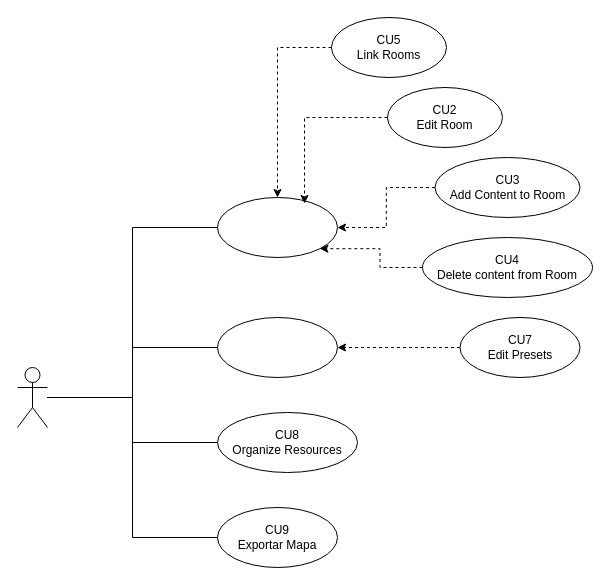
Image size: 610x585. Some labels were removed from this diagram. Each missing label, with the box of its shape:
CU1 Create Room: (216, 196, 338, 258)
CU6 Make Presets: (216, 316, 338, 378)
User: (16, 366, 48, 428)
